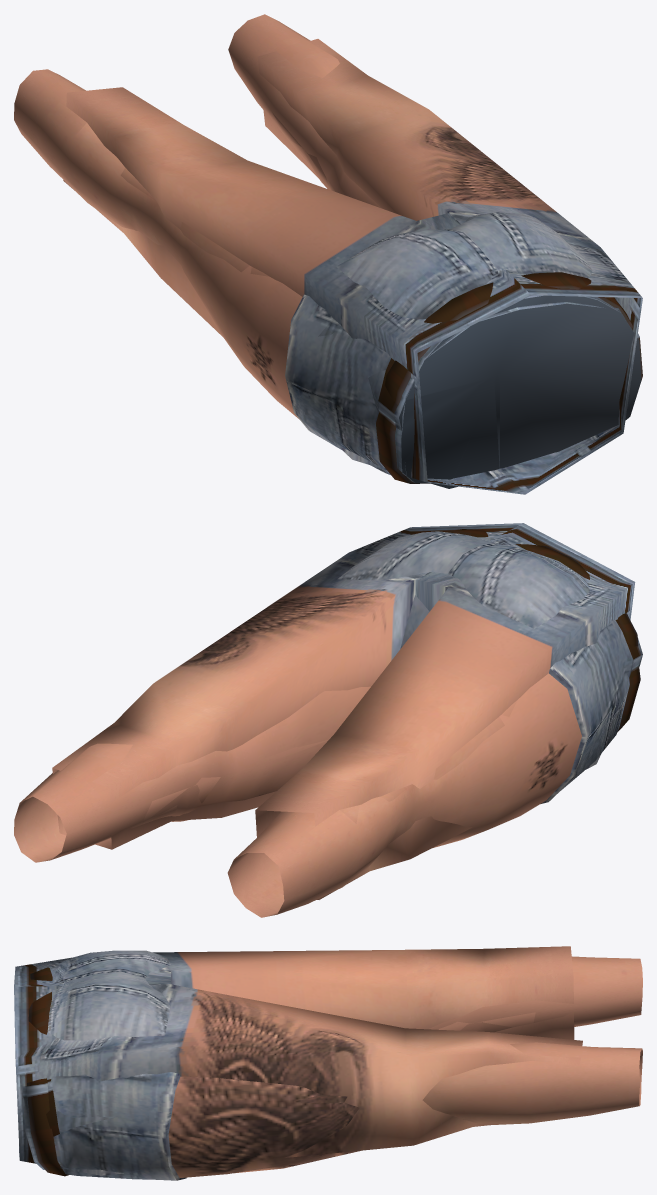
Rendered from lowr_003_r.obj.
The picture shows the model from 3 angles, top to bottom: view 1: azimuth 30°, elevation 25°; view 2: azimuth 150°, elevation 25°; view 3: azimuth 270°, elevation 25°; orthographic projection. The views are drawn at different scales.
Parts seen in each view (by area): view 1: lowr_003_r_low_1, lowr_003_r_high_1, lowr_003_r_med_1; view 2: lowr_003_r_low_1, lowr_003_r_high_1, lowr_003_r_med_1; view 3: lowr_003_r_low_1, lowr_003_r_high_1, lowr_003_r_med_1.
Boxes of the visible parts, <box> form: lowr_003_r_low_1: <box>63,39,642,494</box>; lowr_003_r_high_1: <box>14,14,642,483</box>; lowr_003_r_med_1: <box>73,112,641,488</box>; lowr_003_r_low_1: <box>52,523,635,899</box>; lowr_003_r_high_1: <box>14,529,640,917</box>; lowr_003_r_med_1: <box>142,619,642,824</box>; lowr_003_r_low_1: <box>14,946,582,1175</box>; lowr_003_r_high_1: <box>22,950,642,1180</box>; lowr_003_r_med_1: <box>25,1012,535,1136</box>.
Size of the model in its own units: 0.3916 by 0.2749 by 0.8506.
